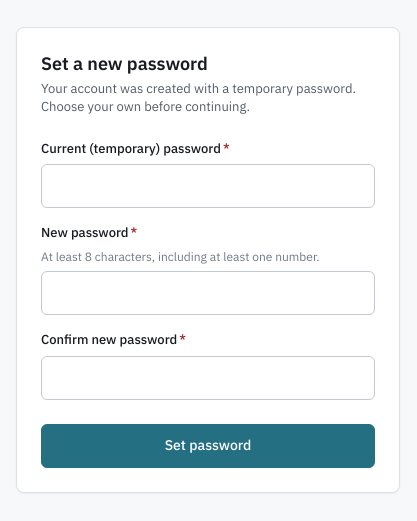
Change password page › rejects a new password shorter than 8 characters (client-side, before any request)
Type "temp-pass" into the password field labelled "Current (temporary) password*" at (208, 186), box [41,164,375,208]
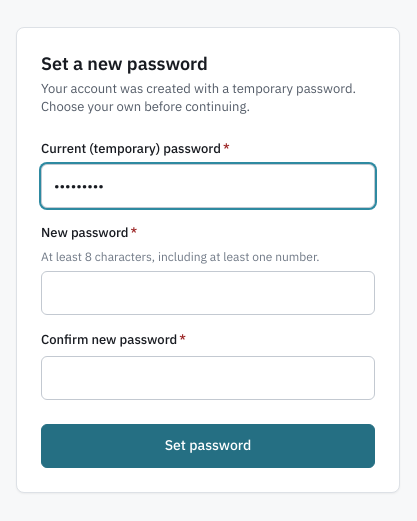
Type "short1" into the password field labelled "New password*" at (208, 293), box [41,271,375,315]
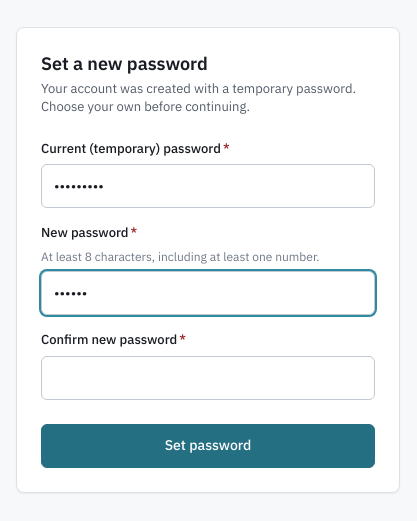
Type "short1" into the password field labelled "Confirm new password*" at (208, 378), box [41,356,375,400]
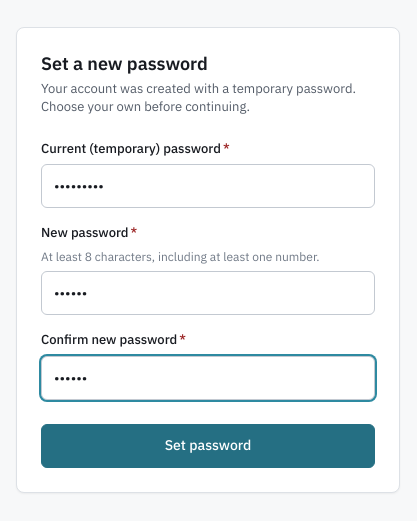
Click the button "Set password" at (208, 446), box [41,424,375,468]
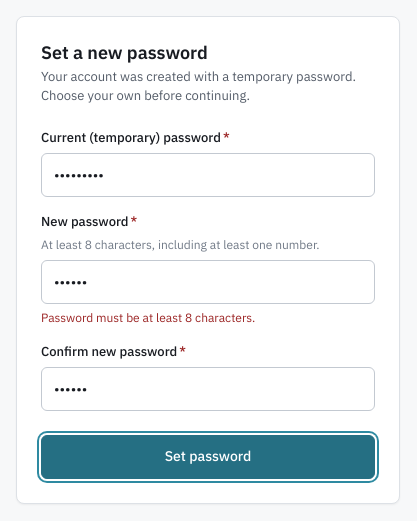
Result: the text "Password must be at least 8 characters." is shown at [41,310,255,325]
